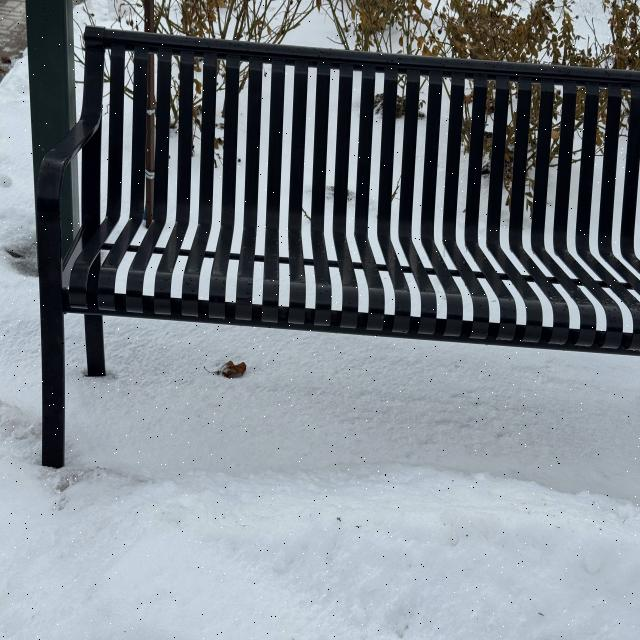Bench: (25, 20, 637, 466)
